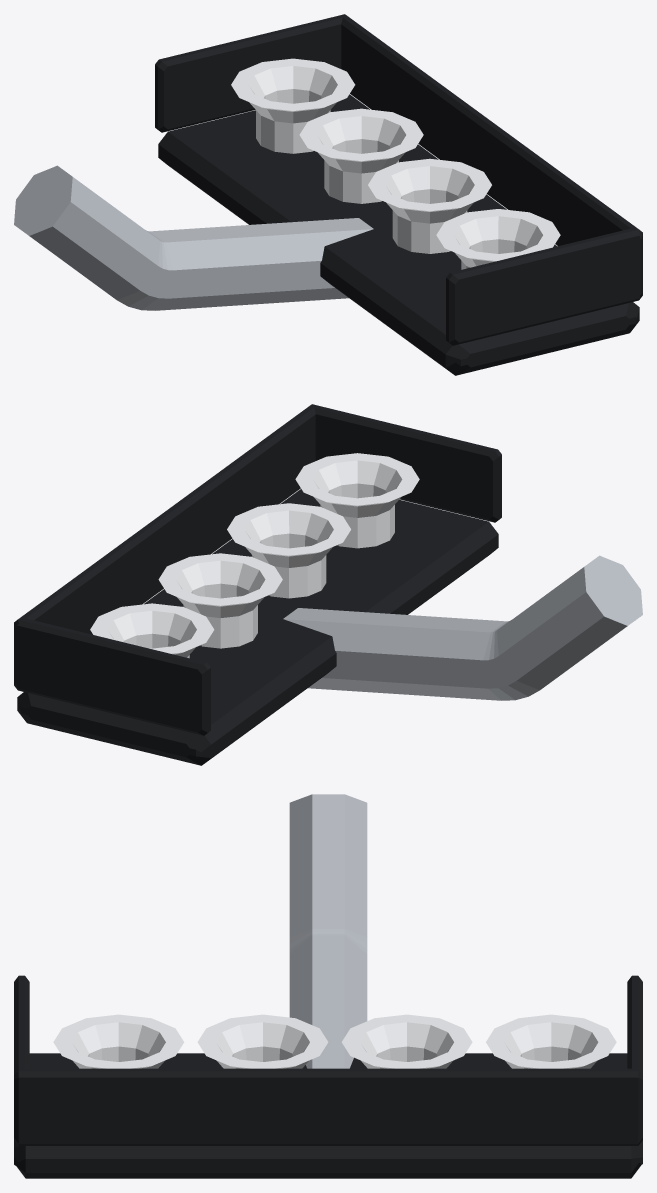
Rendered from vortex_r.glb.
The picture shows the model from 3 angles, top to bottom: view 1: azimuth 30°, elevation 25°; view 2: azimuth 150°, elevation 25°; view 3: azimuth 270°, elevation 25°; orthographic projection. The views are drawn at different scales.
Visible parts, largest first — view 1: model; view 2: model; view 3: model.
Boxes of the visible parts, box(x1,y1,x2,y2) form: model: box(14, 14, 642, 375); model: box(14, 404, 642, 765); model: box(14, 794, 642, 1178).
Size of the model in its own units: 0.4402 by 0.1708 by 0.48.
3 materials, 1 textured.
